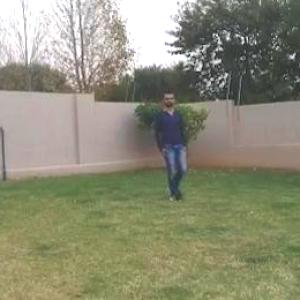follow: (159, 95, 187, 202)
